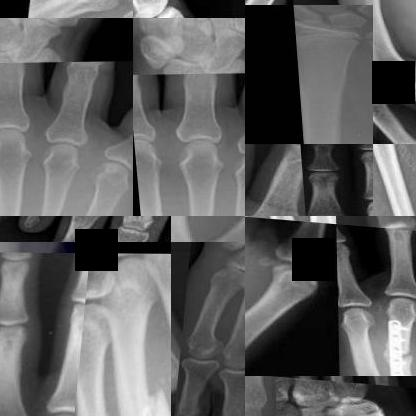fracture: (291, 18, 372, 56), (118, 370, 171, 415), (379, 310, 415, 376), (80, 394, 129, 415)
